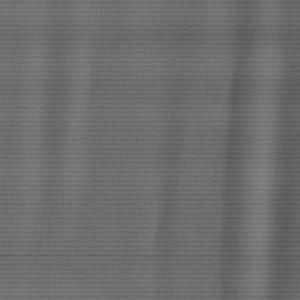Wrinkle: (200, 1, 300, 300)
